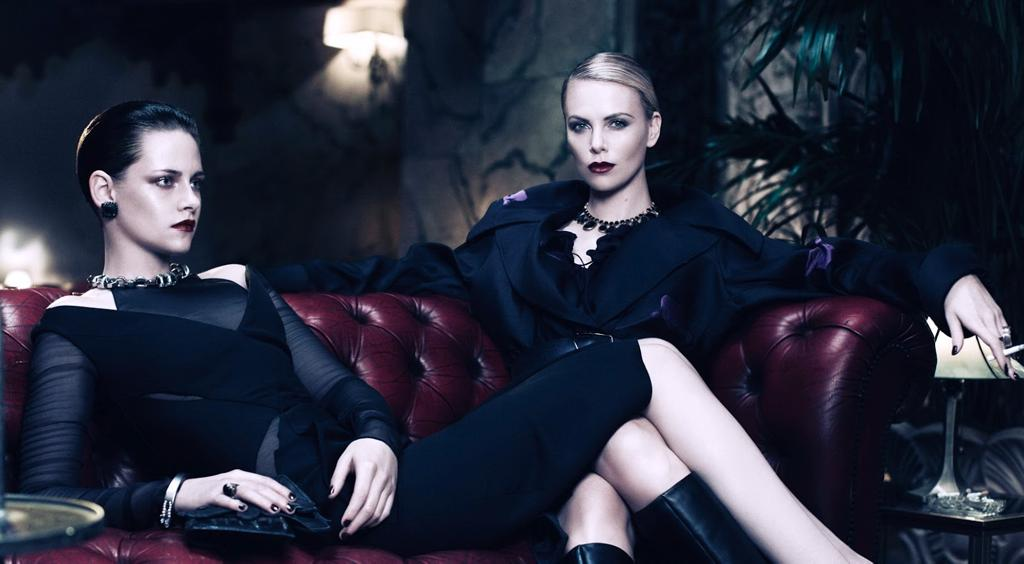face: (130, 122, 204, 246), (566, 74, 640, 188)
